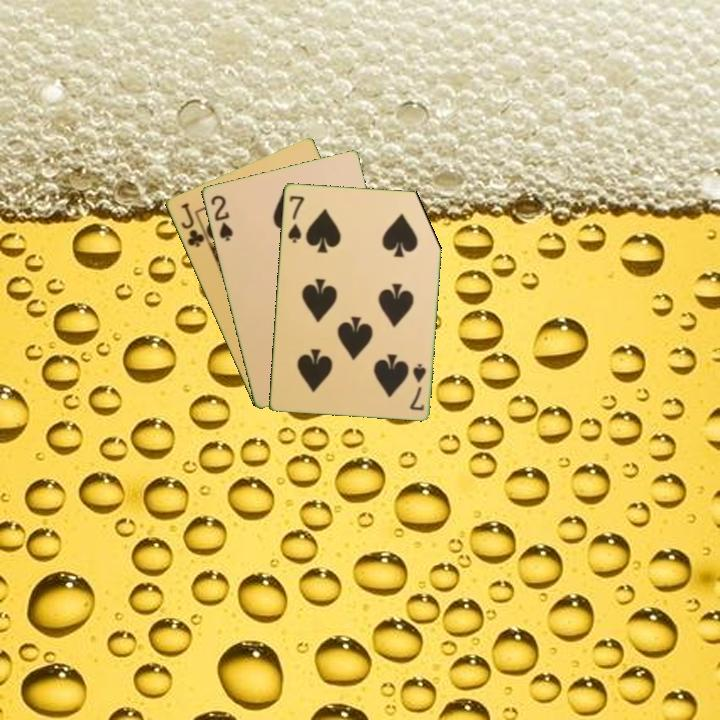2s: (207, 191, 235, 244)
7s: (284, 192, 307, 245), (406, 360, 429, 413)
Jc: (177, 199, 207, 250)
